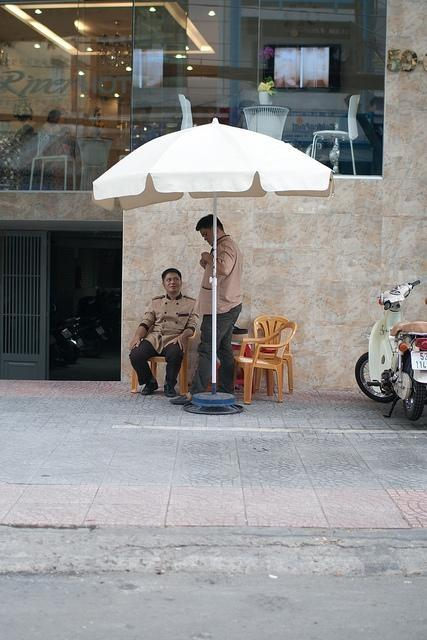motorcycle: (355, 279, 427, 422)
